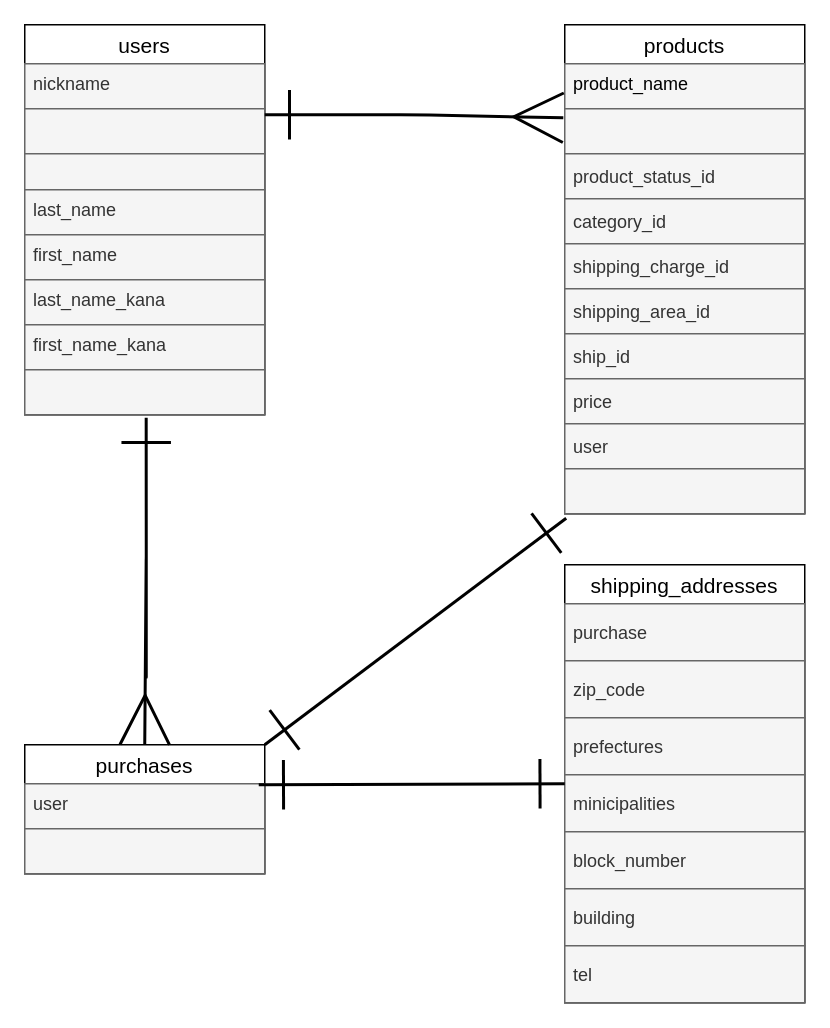
This 830x1028 diagram has some shape labels left out. Each missing label, with the centre of its shape:
"date_of_birth" belongs at [144,391].
"email" belongs at [144,130].
"encrypted_password" belongs at [144,171].
"product" belongs at [144,850].
"product_explanation" belongs at [684,130].
"shipping_address" belongs at [684,490].
